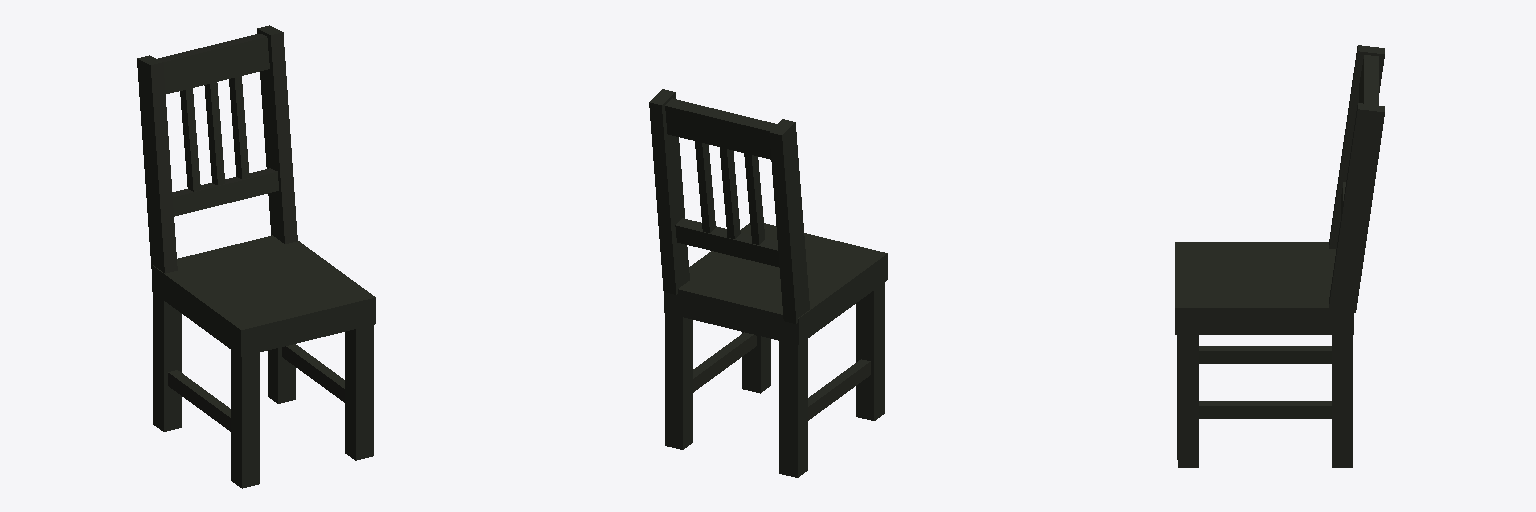
The model's file is chaiseII.obj.
3 renders of one model, left to right at view 1: azimuth 30°, elevation 25°; view 2: azimuth 150°, elevation 25°; view 3: azimuth 270°, elevation 25°, orthographic.
Parts seen in each view (by area): view 1: Cube_3_3.001; view 2: Cube_3_3.001; view 3: Cube_3_3.001.
Boxes of the visible parts, <box> form: Cube_3_3.001: <box>137,25,375,488</box>; Cube_3_3.001: <box>649,89,887,477</box>; Cube_3_3.001: <box>1175,45,1384,467</box>.
Size of the model in its own units: 1.11 by 2.82 by 1.5.